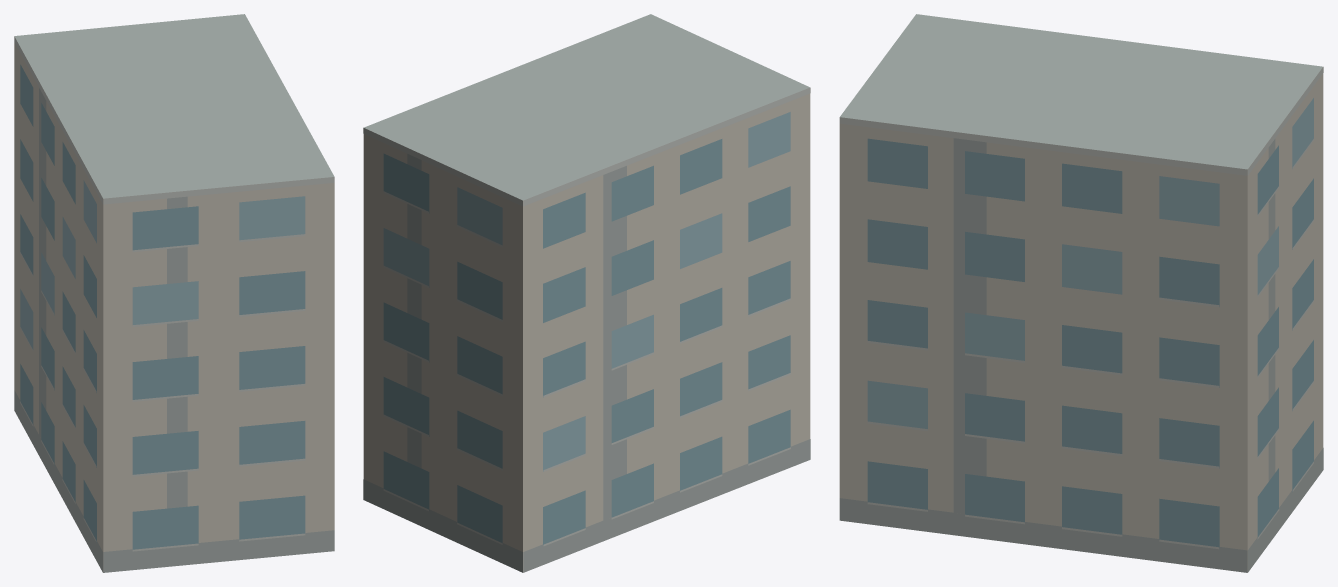
File: survey-upis-32905908.glb
3 views of the same model, side by side, from view 1: azimuth 30°, elevation 25°; view 2: azimuth 150°, elevation 25°; view 3: azimuth 270°, elevation 25° (orthographic). The views are drawn at different scales.
Visible parts, largest first — view 1: survey-upis-32905908.tmp; view 2: survey-upis-32905908.tmp; view 3: survey-upis-32905908.tmp.
Boxes of the visible parts, bbox=[...] form: survey-upis-32905908.tmp: bbox=[14, 14, 334, 572]; survey-upis-32905908.tmp: bbox=[363, 14, 810, 572]; survey-upis-32905908.tmp: bbox=[839, 14, 1323, 572].
Bounding box in the file's own units: 12.74 × 15.4 × 16.75.
